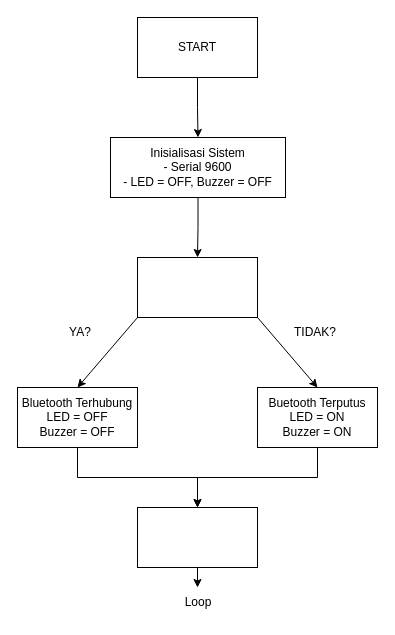
This 395x635 diagram has some shape labels left out. Here are the shapes that lost their labels. From the top down, the centre of each, then its label:
At [197,287]: "Cek koneksi Bluetooth".
At [197,537]: "Kembali ke cek BT".
